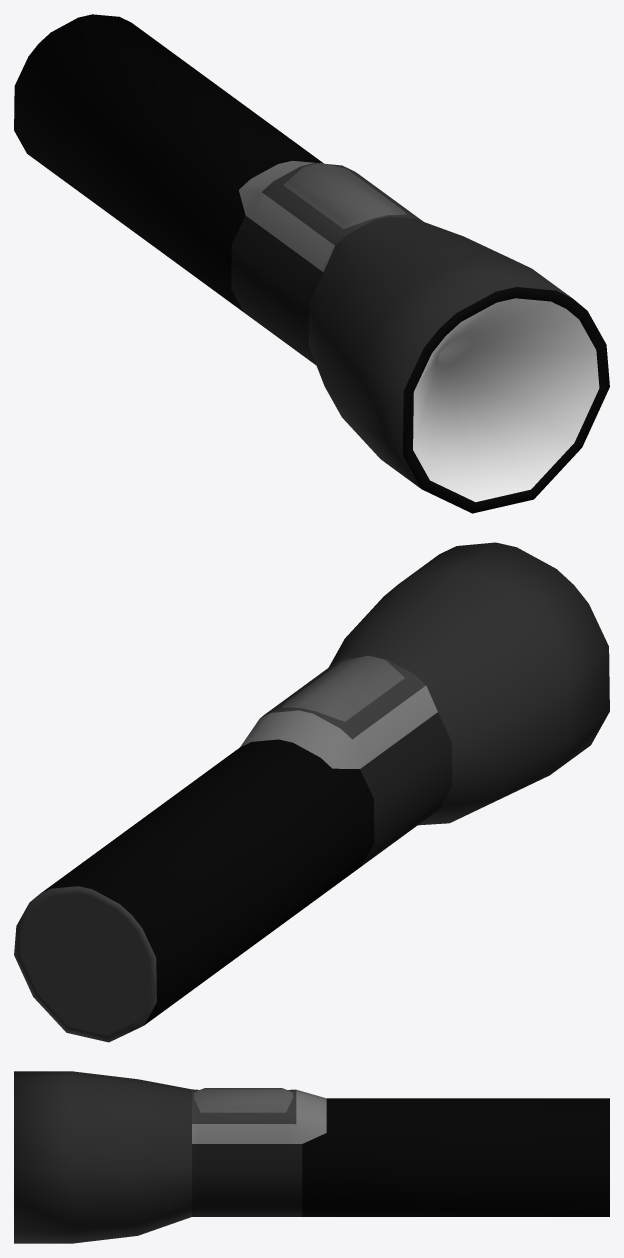
The model's file is Flashlamp.fbx.
3 views of the same model, one above another, from view 1: azimuth 30°, elevation 25°; view 2: azimuth 150°, elevation 25°; view 3: azimuth 270°, elevation 25° (orthographic). The views are drawn at different scales.
Visible parts, largest first — view 1: Lanterna_Cylinder; view 2: Lanterna_Cylinder; view 3: Lanterna_Cylinder.
Part boxes in pixels (x1,y1,x2,y2): Lanterna_Cylinder: [14, 14, 609, 513]; Lanterna_Cylinder: [14, 542, 609, 1042]; Lanterna_Cylinder: [14, 1071, 609, 1243].
Bounding box in the file's own units: 5.69 × 20.02 × 5.7.
